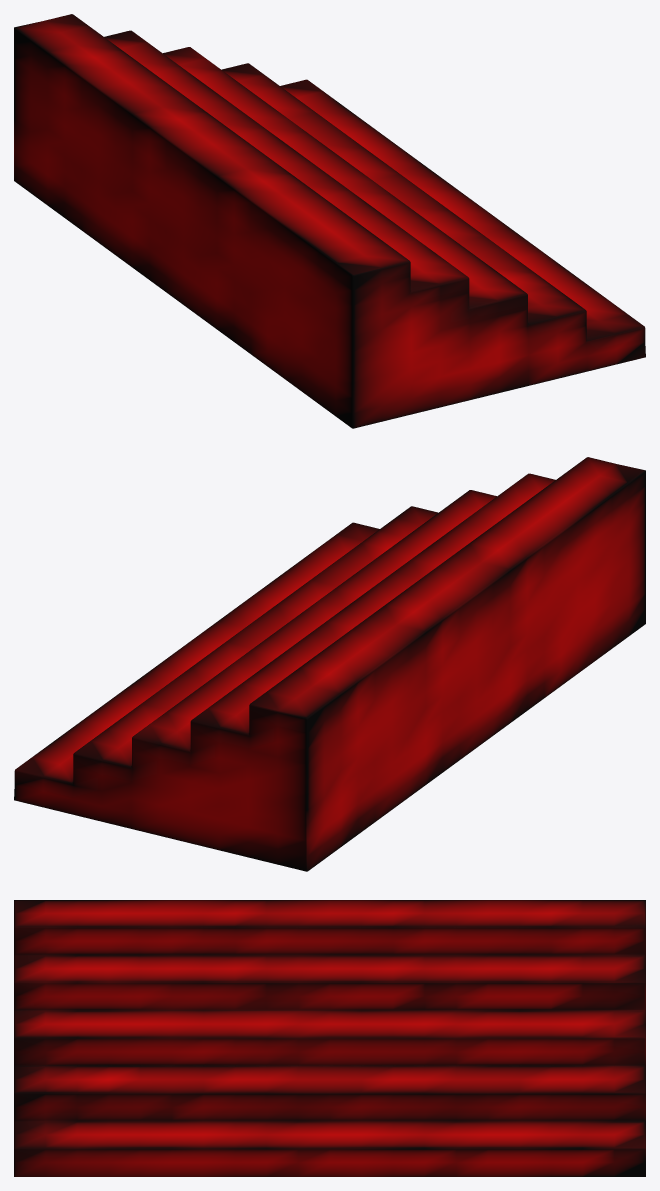
File: stairs_4x1.fbx
The picture shows the model from 3 angles, top to bottom: view 1: azimuth 30°, elevation 25°; view 2: azimuth 150°, elevation 25°; view 3: azimuth 270°, elevation 25°; orthographic projection. The views are drawn at different scales.
Visible parts, largest first — view 1: stairs_4x1; view 2: stairs_4x1; view 3: stairs_4x1.
Boxes of the visible parts, left/top/right/bottom form: stairs_4x1: left=14, top=14, right=645, bottom=428; stairs_4x1: left=14, top=457, right=645, bottom=871; stairs_4x1: left=14, top=900, right=645, bottom=1176.
Bounding box in the file's own units: 2 × 1 × 4.
